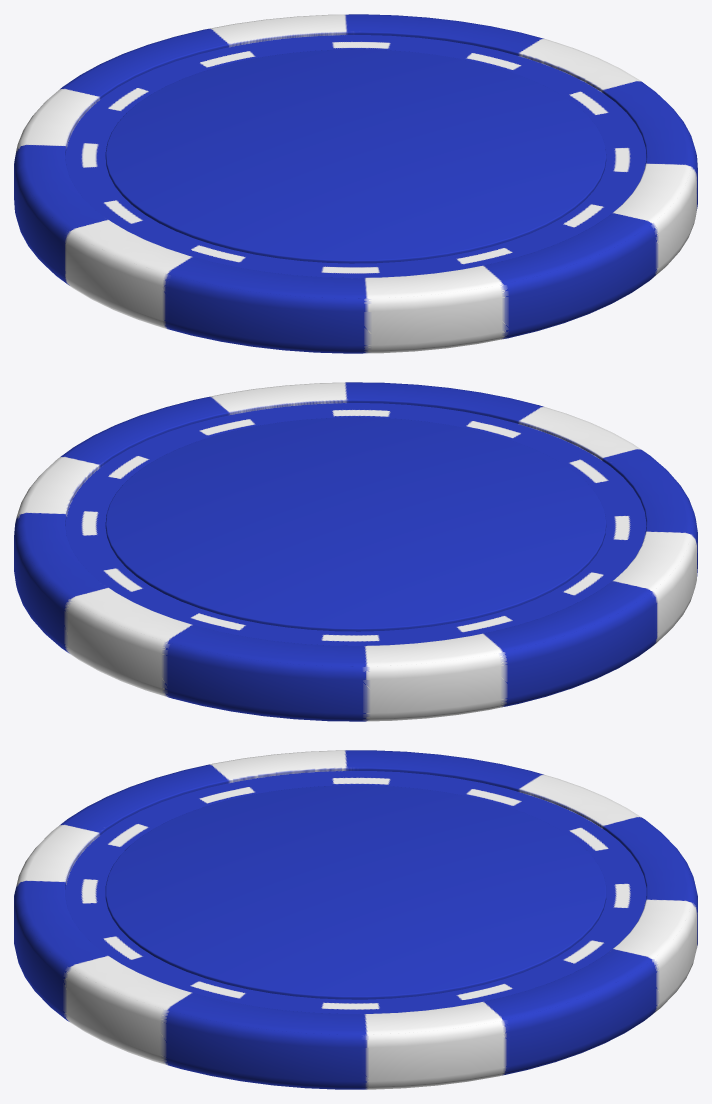
Rendered from blue_chip.glb.
The picture shows the model from 3 angles, top to bottom: view 1: azimuth 30°, elevation 25°; view 2: azimuth 150°, elevation 25°; view 3: azimuth 270°, elevation 25°; orthographic projection.
Visible parts, largest first — view 1: chips.463_chips_blue_bake_0; view 2: chips.463_chips_blue_bake_0; view 3: chips.463_chips_blue_bake_0.
Boxes of the visible parts, x1=… form: chips.463_chips_blue_bake_0: x1=14, y1=14, x2=697, y2=353; chips.463_chips_blue_bake_0: x1=14, y1=382, x2=697, y2=721; chips.463_chips_blue_bake_0: x1=14, y1=750, x2=697, y2=1089.
Size of the model in its own units: 2 by 0.1882 by 2.
Materials: 1 (1 with a texture image).
